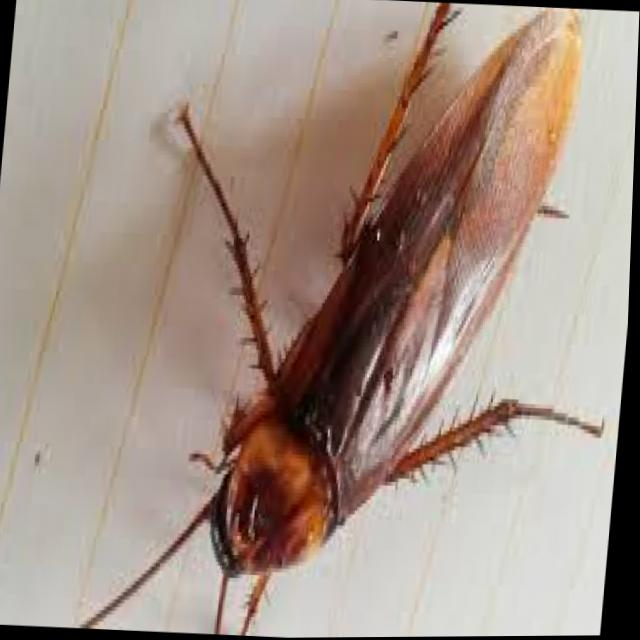Cockroach: (64, 0, 640, 640)
